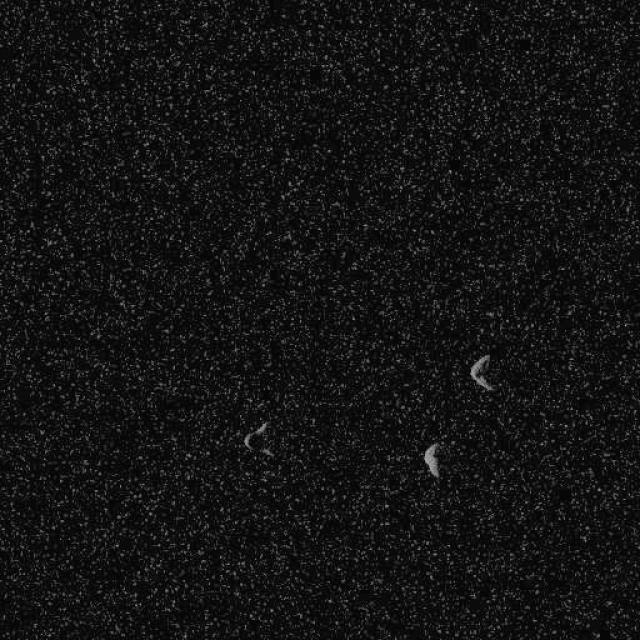D2: (468, 352, 497, 392), (242, 420, 268, 450), (422, 441, 442, 479)
